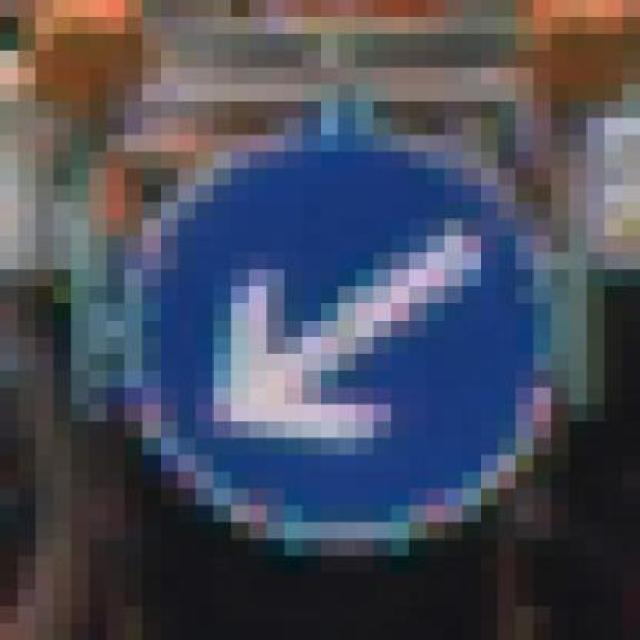Keep-Left: (71, 101, 587, 573)
